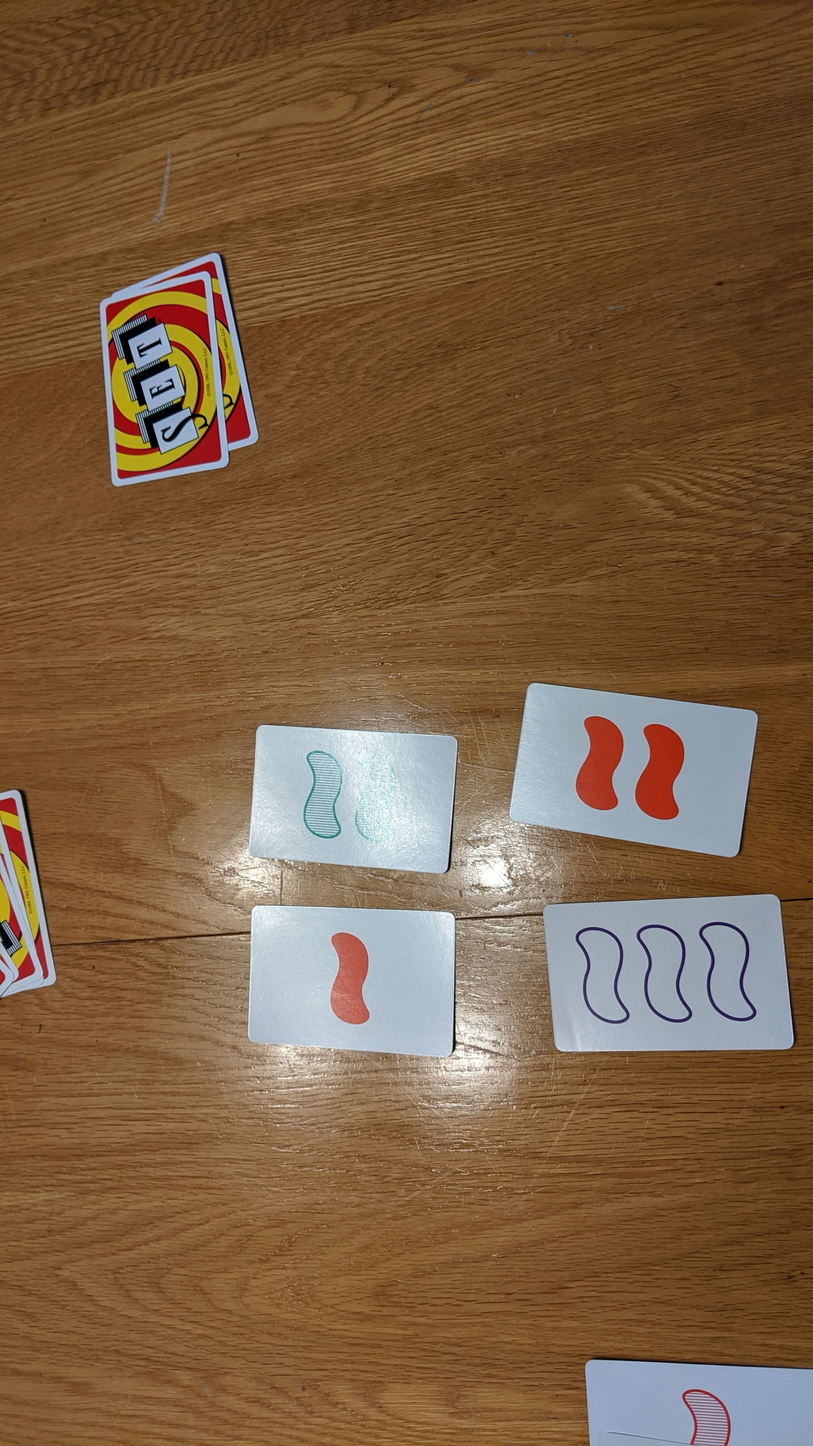card: (510, 679, 758, 859), (544, 895, 795, 1054), (250, 721, 461, 874), (247, 905, 458, 1057), (585, 1355, 813, 1446)
